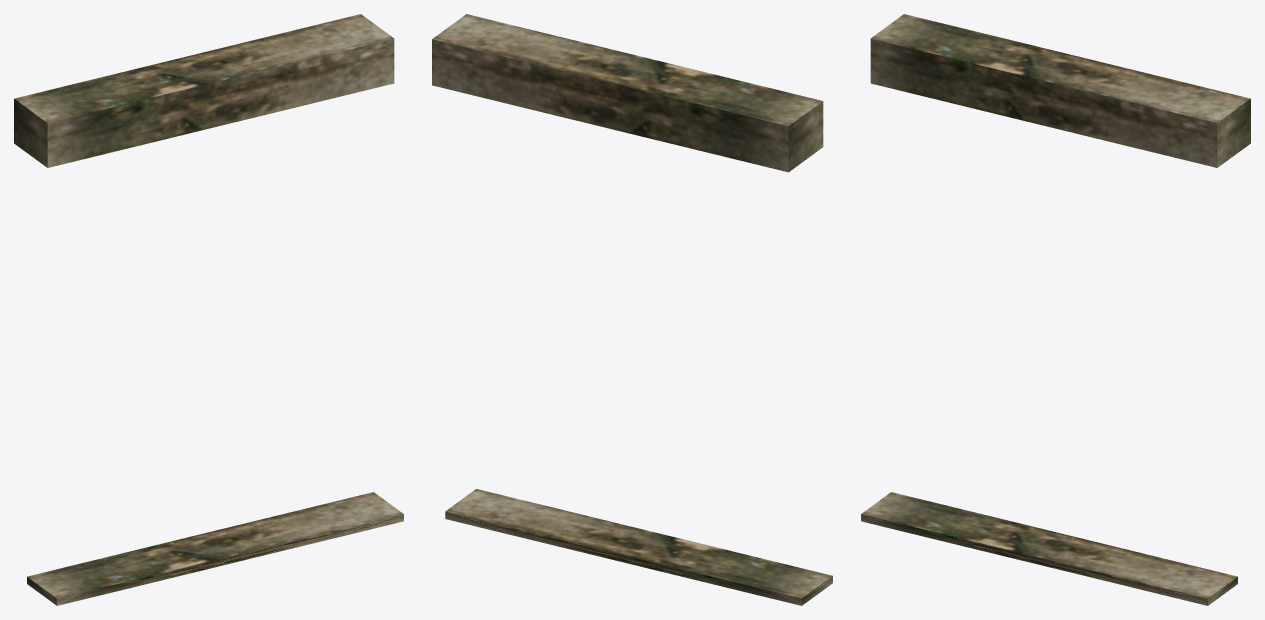
File: HouseWall03.glb
3 renders of one model, left to right at view 1: azimuth 30°, elevation 25°; view 2: azimuth 150°, elevation 25°; view 3: azimuth 330°, elevation 25°, orthographic. The views are drawn at different scales.
Visible parts, largest first — view 1: HouseWall03; view 2: HouseWall03; view 3: HouseWall03.
Boxes of the visible parts, bbox=[...] form: HouseWall03: bbox=[14, 14, 403, 605]; HouseWall03: bbox=[432, 14, 832, 605]; HouseWall03: bbox=[861, 14, 1250, 605].
Bounding box in the file's own units: 2.02 × 2.65 × 0.4339.
Materials: 1 (1 with a texture image).
